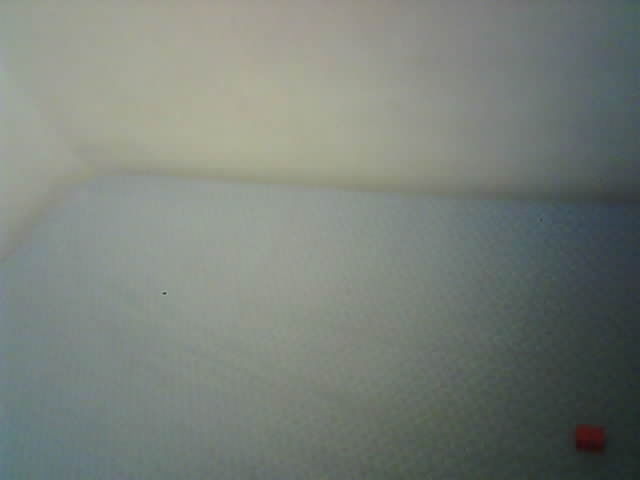lego: (574, 424, 606, 455)
